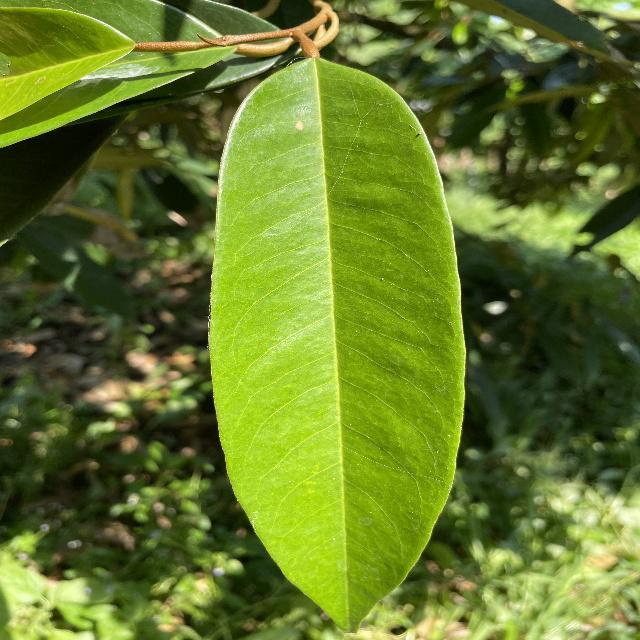No Disease: (203, 49, 476, 639)
